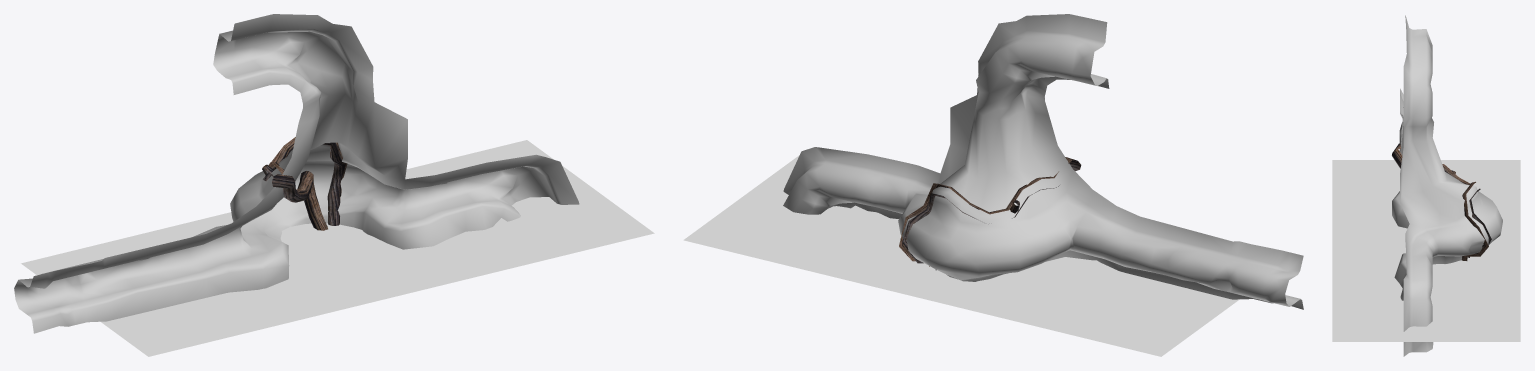
File: area01Test.FBX
3 renders of one model, left to right at view 1: azimuth 30°, elevation 25°; view 2: azimuth 150°, elevation 25°; view 3: azimuth 270°, elevation 25°, orthographic. The views are drawn at different scales.
Parts seen in each view (by area): view 1: Plane002, Plane003; view 2: Plane002, Plane003; view 3: Plane003, Plane002.
Boxes of the visible parts, x1=… form: Plane002: x1=14, y1=14, x2=579, y2=333; Plane003: x1=21, y1=140, x2=654, y2=356; Plane002: x1=783, y1=14, x2=1303, y2=309; Plane003: x1=683, y1=155, x2=1239, y2=356; Plane003: x1=1332, y1=160, x2=1520, y2=341; Plane002: x1=1392, y1=15, x2=1502, y2=356.
Size of the model in its own units: 6250 by 3120 by 2405.
